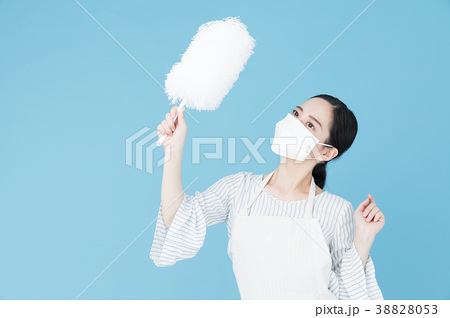mask: (265, 115, 318, 162)
